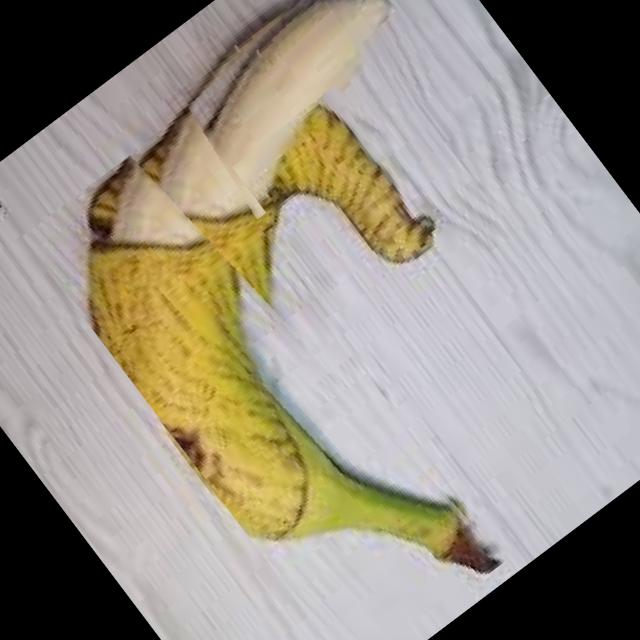Organic: (21, 120, 507, 640), (158, 0, 446, 220), (228, 82, 451, 314)
